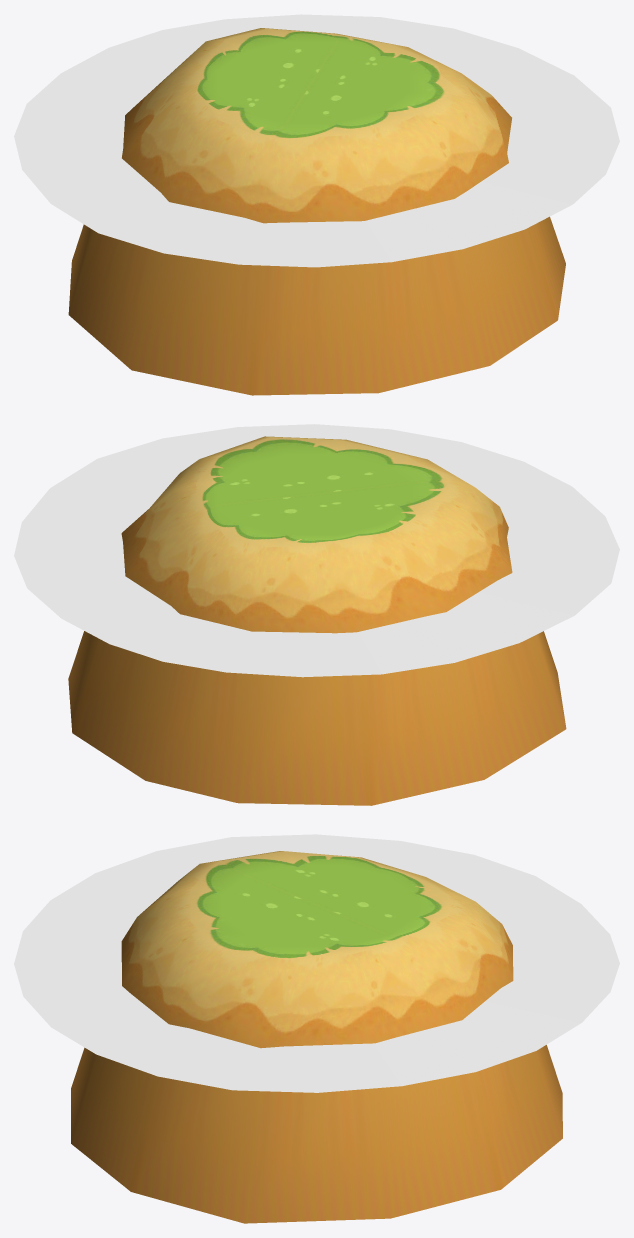
The model's file is Island_Small_03.fbx.
The picture shows the model from 3 angles, top to bottom: view 1: azimuth 30°, elevation 25°; view 2: azimuth 150°, elevation 25°; view 3: azimuth 270°, elevation 25°; orthographic projection.
Parts seen in each view (by area): view 1: Island_Color_11, Wave_sleeve; view 2: Island_Color_11, Wave_sleeve; view 3: Island_Color_11, Wave_sleeve.
Boxes of the visible parts, left/top/right/bottom form: Island_Color_11: left=68, top=28, right=565, bottom=395; Wave_sleeve: left=14, top=14, right=619, bottom=267; Island_Color_11: left=68, top=436, right=566, bottom=805; Wave_sleeve: left=14, top=424, right=619, bottom=677; Island_Color_11: left=71, top=851, right=562, bottom=1223; Wave_sleeve: left=14, top=834, right=619, bottom=1092.
Size of the model in its own units: 68.65 by 26.11 by 68.
Materials: 2 (2 with a texture image).
